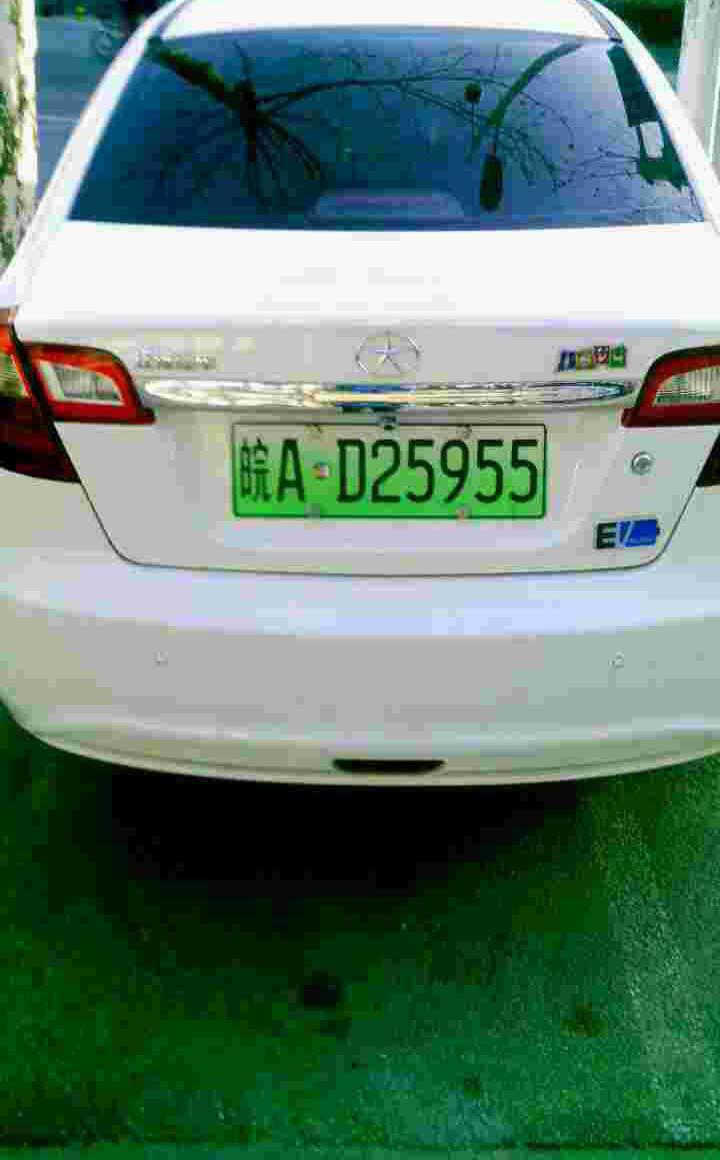car_id: (232, 425, 548, 514)
